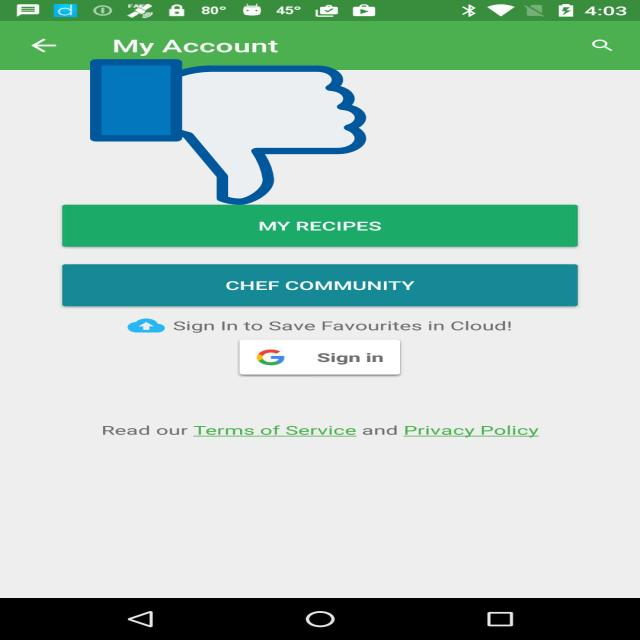obstruction: (90, 56, 366, 208)
